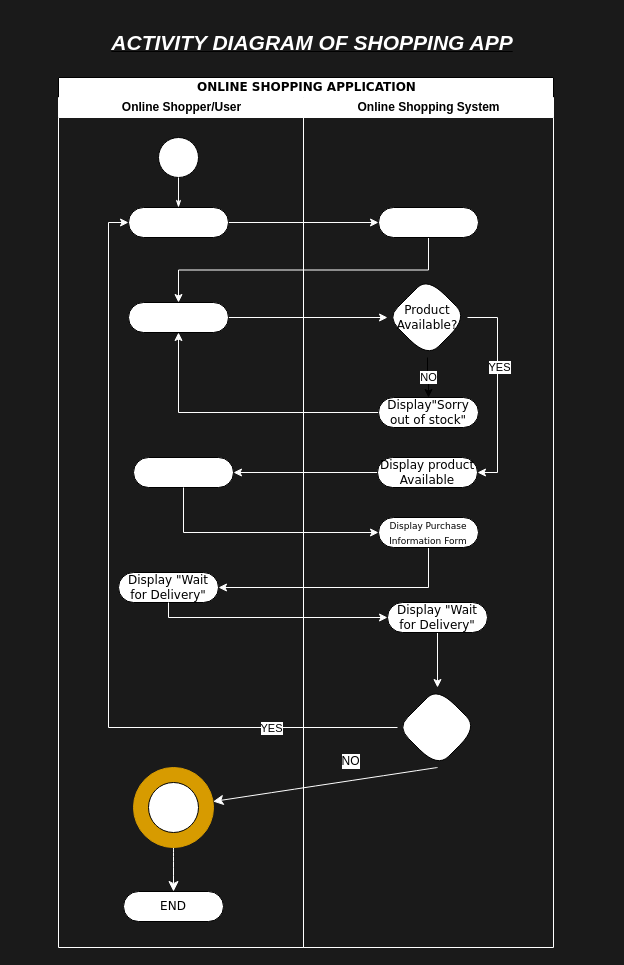
Some shapes in this 624 by 965 pixel diagram are drawn without their labels. Each missing label, with the centre of its shape:
"Inquire for Desired Product" belongs at (x=178, y=317).
"Order Again?" belongs at (x=437, y=727).
"Select Quantity And Purchase" belongs at (x=183, y=472).
"Show Product Offer" belongs at (x=428, y=222).
"START" belongs at (x=178, y=222).
